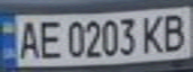0: (63, 17, 84, 59), (100, 16, 121, 57)
2: (81, 17, 103, 60)
3: (118, 15, 139, 56)
A: (12, 17, 42, 61)
B: (157, 10, 193, 53)
E: (33, 17, 63, 61)
K: (139, 11, 169, 55)
